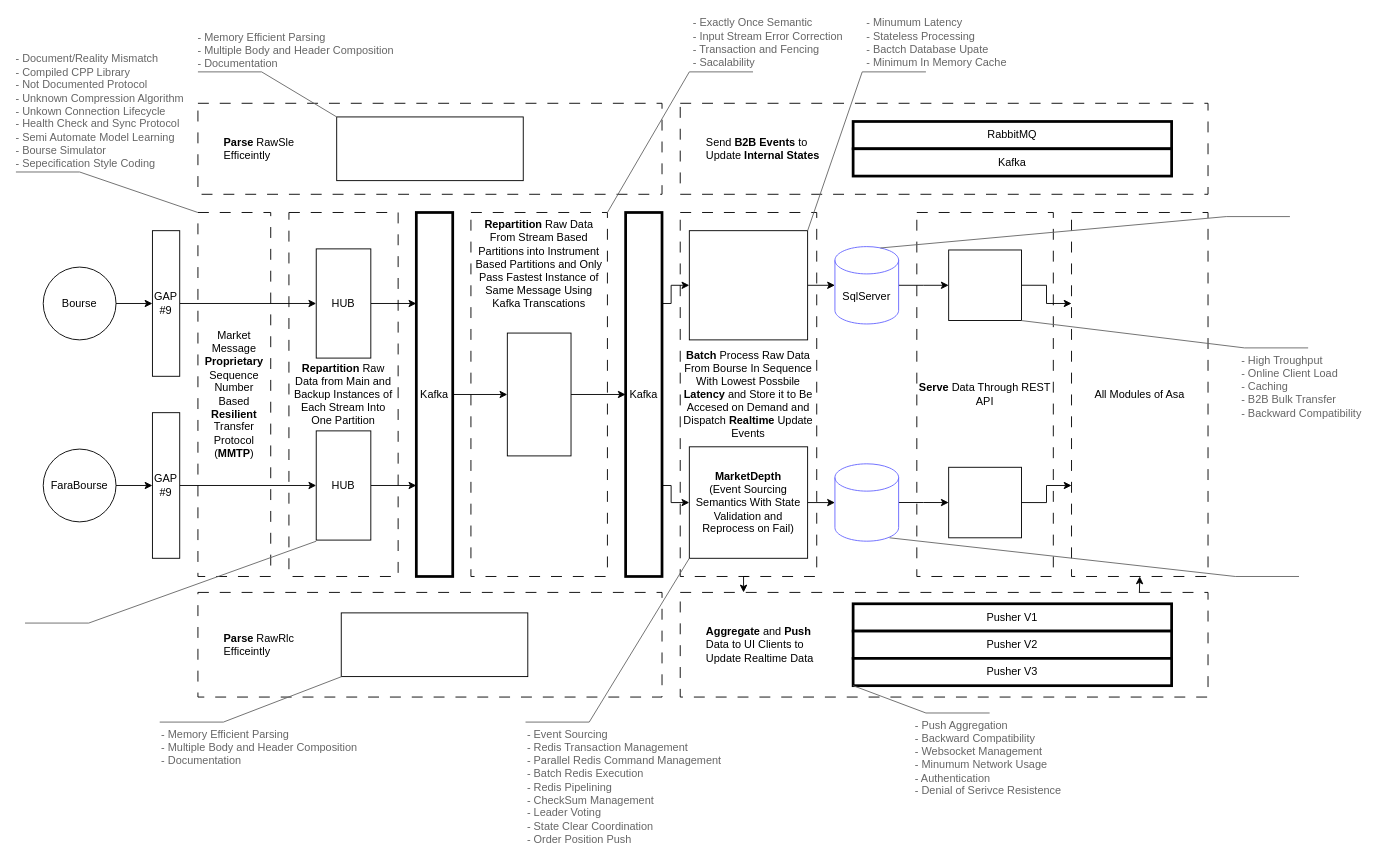
Some shapes in this 1395 by 862 pixel diagram are drawn without their labels. Here are the shapes that lost their labels. From the top down, the centre of each, then its label:
At (x=429, y=148): "SleParser".
At (x=1085, y=220): "- High Query Rate - Readonly Database - Index - Execution Plan Management".
At (x=748, y=285): "Rmdp (Ignore Fail Semantics)".
At (x=984, y=285): "Rmdp API".
At (x=538, y=394): "Dispatcher".
At (x=866, y=502): "Redis".
At (x=984, y=502): "MarketDepth API".
At (x=1094, y=556): "- Memory Usage - State Loss Backup - Pipelining".
At (x=170, y=581): "- Auto Sacling - Seamless FailOver".
At (x=434, y=644): "RlcParser".
